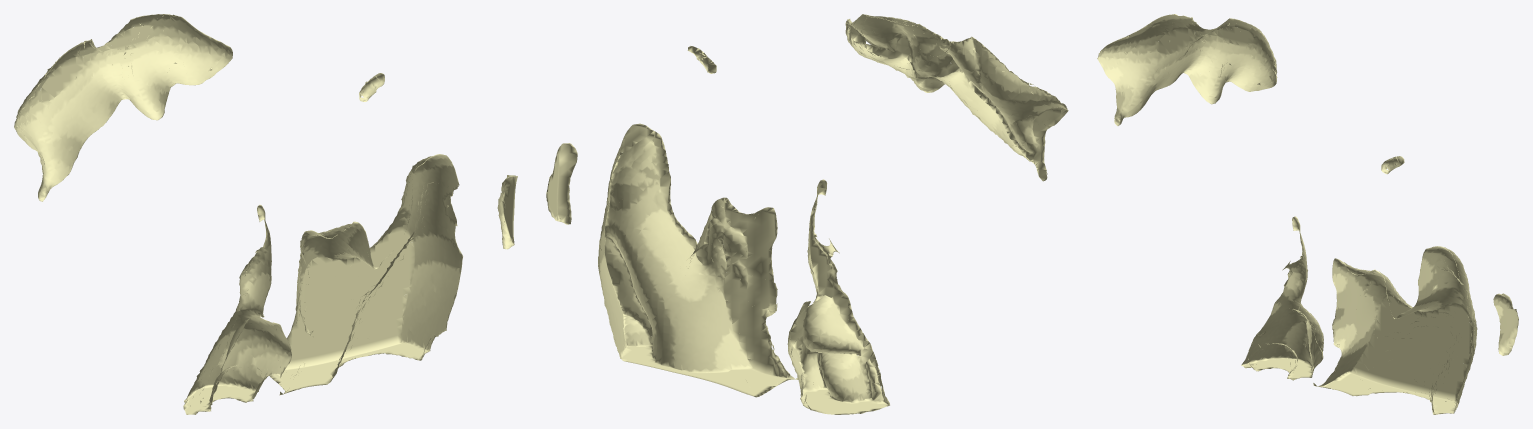
The picture shows the model from 3 angles, left to right: view 1: azimuth 30°, elevation 25°; view 2: azimuth 150°, elevation 25°; view 3: azimuth 330°, elevation 25°; orthographic projection. The views are drawn at different scales.
Visible parts, largest first — view 1: Switch_Switch_osgPicked_gmeGeoEntityGeode_Geometry_Geometry_ (×3), Switch_Switch_osgPicked_gmeGeoEntityGeode_Geometry_0; view 2: Switch_Switch_osgPicked_gmeGeoEntityGeode_Geometry_Geometry_ (×3), Switch_Switch_osgPicked_gmeGeoEntityGeode_Geometry_0; view 3: Switch_Switch_osgPicked_gmeGeoEntityGeode_Geometry_Geometry_ (×3), Switch_Switch_osgPicked_gmeGeoEntityGeode_Geometry_0.
Part boxes in pixels (<box>): Switch_Switch_osgPicked_gmeGeoEntityGeode_Geometry_Geometry_ (×3): <box>183,154,517,414</box>; Switch_Switch_osgPicked_gmeGeoEntityGeode_Geometry_0: <box>14,14,232,201</box>; Switch_Switch_osgPicked_gmeGeoEntityGeode_Geometry_Geometry_ (×3): <box>546,123,889,414</box>; Switch_Switch_osgPicked_gmeGeoEntityGeode_Geometry_0: <box>845,14,1068,181</box>; Switch_Switch_osgPicked_gmeGeoEntityGeode_Geometry_Geometry_ (×3): <box>1241,216,1518,414</box>; Switch_Switch_osgPicked_gmeGeoEntityGeode_Geometry_0: <box>1097,14,1277,125</box>.
Size of what is drawn, in the model's own units: 35546 by 26831 by 4140.
